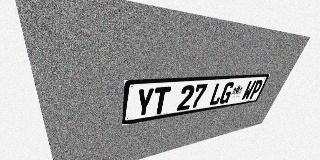2: (177, 85, 196, 111)
7: (189, 84, 208, 109)
G: (218, 82, 236, 104)
L: (208, 82, 226, 106)
P: (248, 80, 264, 99)
T: (151, 86, 171, 115)
W: (240, 80, 257, 101)
Y: (135, 88, 155, 118)
